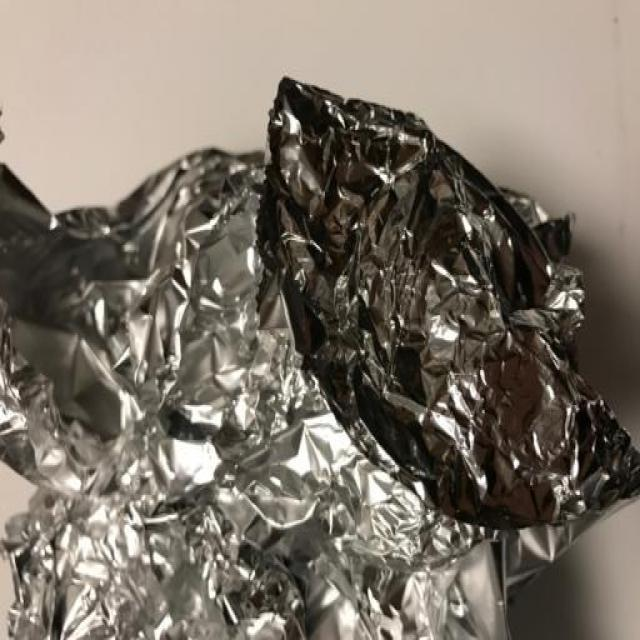plastic_bag: (243, 69, 640, 554), (10, 281, 534, 640)
